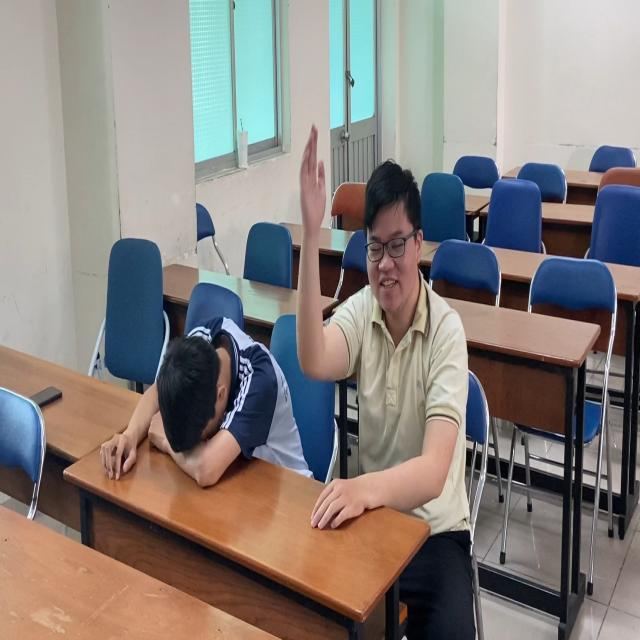raise_hand: (282, 109, 473, 514)
sleep: (95, 312, 312, 505)
